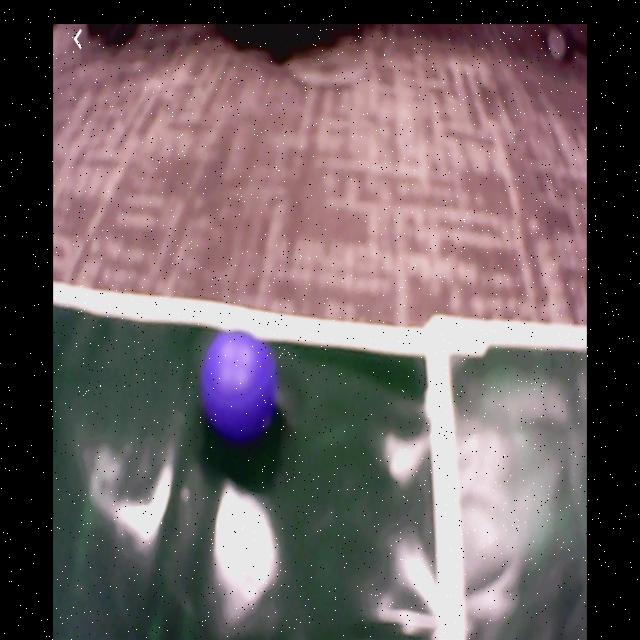ball: (203, 332, 269, 438)
